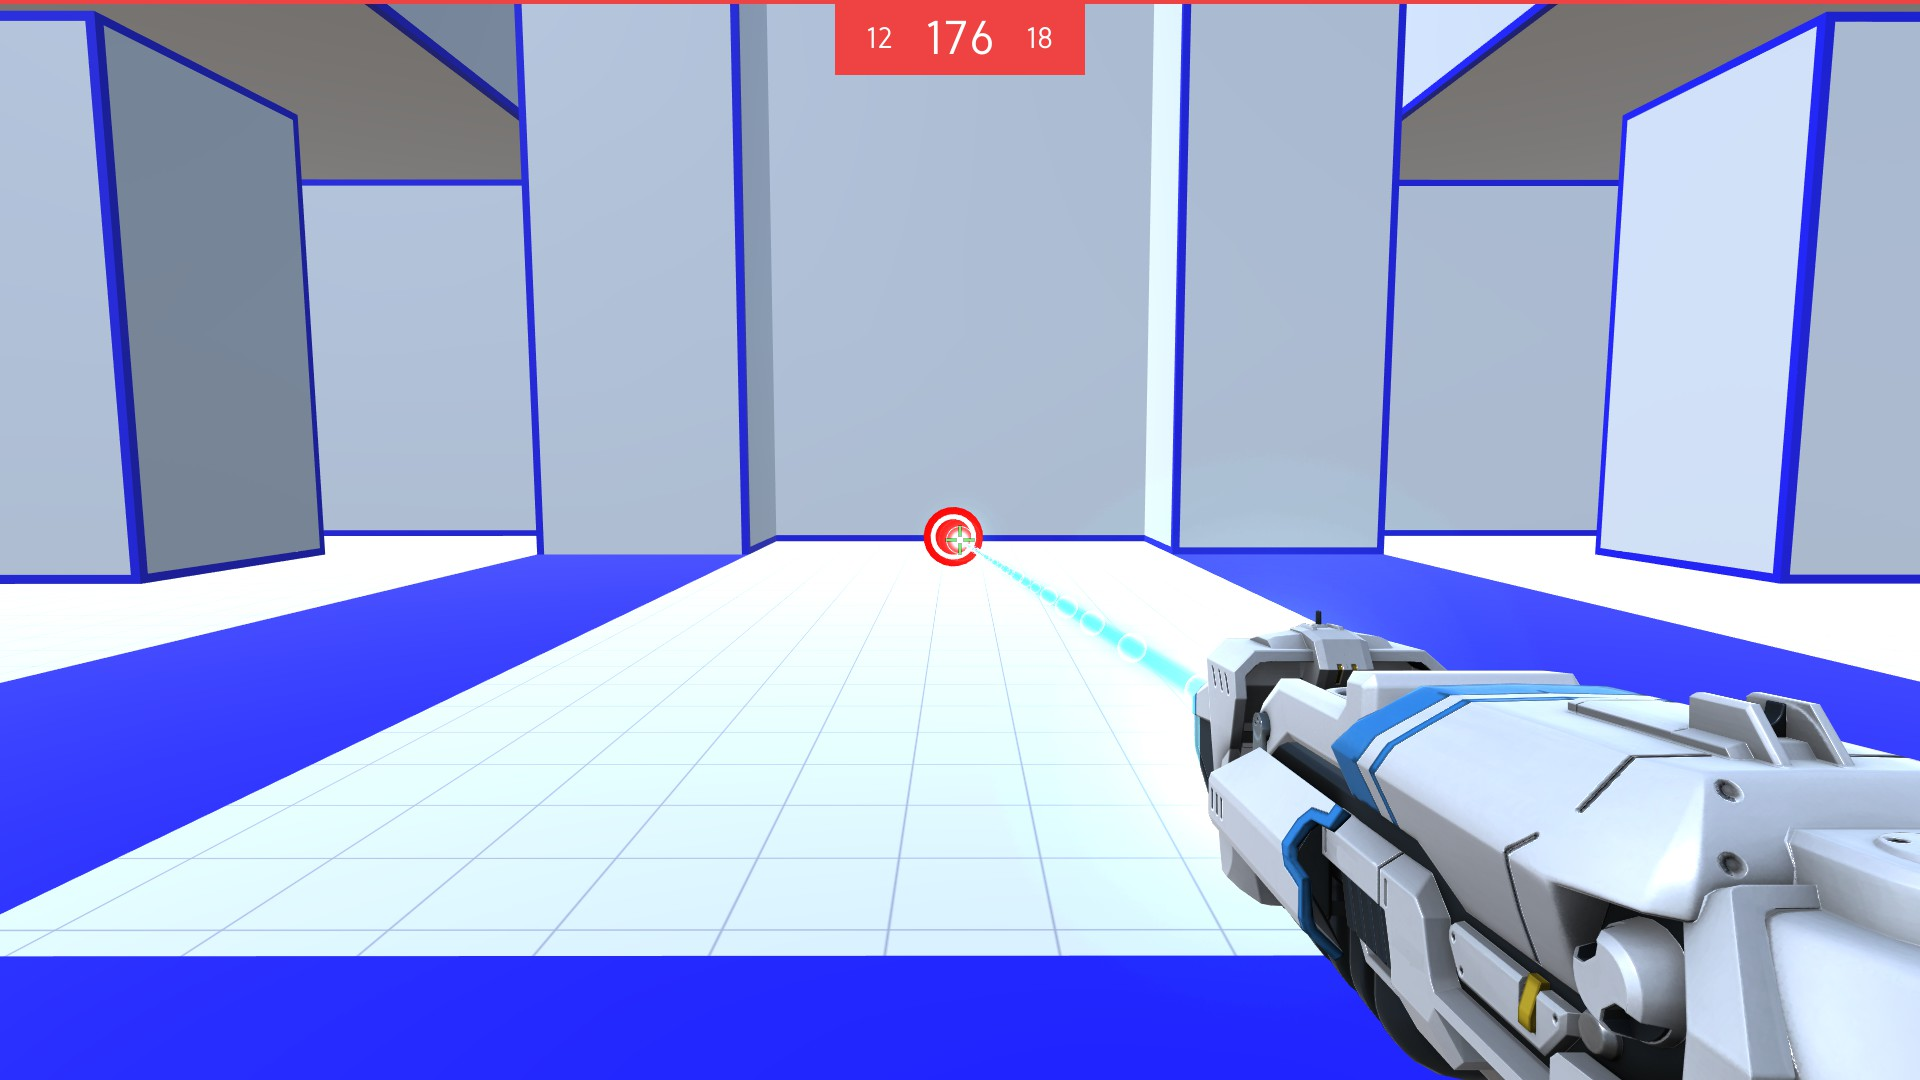target: (922, 506, 989, 568)
